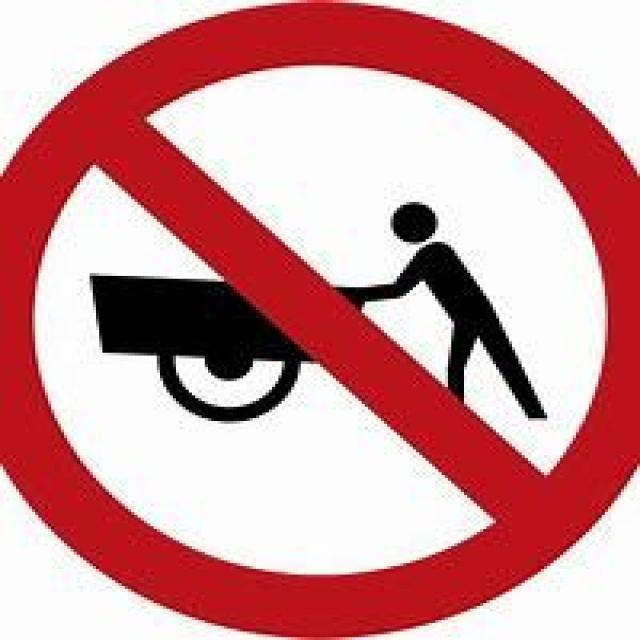HANDCART_PROHIBITED: (0, 0, 637, 637)
